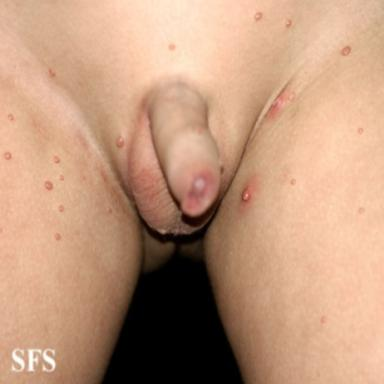Molluscum-Contagiosum: (267, 92, 295, 119), (241, 188, 251, 202), (341, 45, 351, 56), (116, 136, 125, 148), (44, 181, 53, 190), (254, 12, 263, 21), (49, 68, 56, 77), (5, 152, 11, 160), (54, 156, 60, 163), (55, 233, 61, 240), (169, 44, 175, 51), (286, 20, 292, 27), (107, 207, 113, 213), (290, 179, 296, 185), (359, 208, 365, 214), (8, 114, 13, 121), (59, 205, 64, 212), (59, 175, 64, 181), (321, 317, 326, 323), (358, 128, 363, 133)
